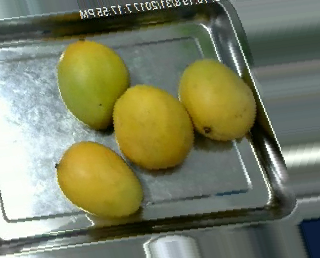Mango: (109, 80, 204, 175), (53, 139, 152, 224), (175, 55, 261, 146), (57, 37, 134, 136)
